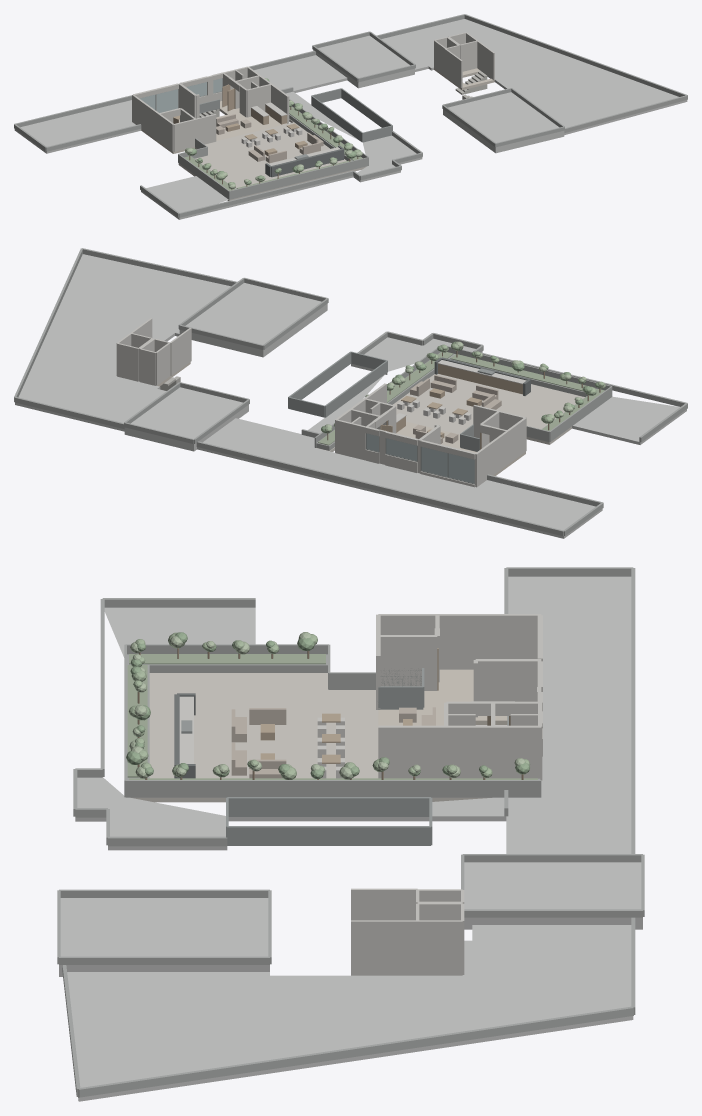
The model's file is terraza-tc.glb.
3 views of the same model, one above another, from view 1: azimuth 30°, elevation 25°; view 2: azimuth 150°, elevation 25°; view 3: azimuth 270°, elevation 25° (orthographic). The views are drawn at different scales.
Visible parts, largest first — view 1: 01_Cubiertas_inaccesibles__Losa_03_003, 01_Cubiertas_inaccesibles__Losa_01_001, 01_Cubiertas_inaccesibles__Losa_02_002, 01_Cubiertas_inaccesibles__Volumen_cubierto_023, 02_Terraza_comunal__Losa terraza_001, 01_Cubiertas_inaccesibles__Volumen_cubierto_018, 05_Vacios_y_protecciones__Pretil terraza_008, 01_Cubiertas_inaccesibles__Pretil_016, 03_Hall_y_bar__Muro_003, 03_Hall_y_bar__Muro_006, 01_Cubiertas_inaccesibles__Pretil_004, 01_Cubiertas_inaccesibles__Pretil_009 (+18 smaller); view 2: 01_Cubiertas_inaccesibles__Losa_03_003, 01_Cubiertas_inaccesibles__Losa_01_001, 01_Cubiertas_inaccesibles__Volumen_cubierto_023, 01_Cubiertas_inaccesibles__Losa_02_002, 02_Terraza_comunal__Losa terraza_001, 01_Cubiertas_inaccesibles__Volumen_cubierto_018, 01_Cubiertas_inaccesibles__Pretil_004, 03_Hall_y_bar__Muro_003, 03_Hall_y_bar__Vidrio_022, 03_Hall_y_bar__Muro_011, 01_Cubiertas_inaccesibles__Pretil_017, 06_Jardineras__Sustrato_006 (+21 smaller); view 3: 01_Cubiertas_inaccesibles__Losa_03_003, 01_Cubiertas_inaccesibles__Losa_01_001, 02_Terraza_comunal__Losa terraza_001, 01_Cubiertas_inaccesibles__Volumen_cubierto_023, 01_Cubiertas_inaccesibles__Losa_02_002, 01_Cubiertas_inaccesibles__Volumen_cubierto_018, 03_Hall_y_bar__Muro_010, 05_Vacios_y_protecciones__Pretil terraza_009, 04_Circulacion_vertical__Muro_026, 03_Hall_y_bar__Muro_003, 01_Cubiertas_inaccesibles__Pretil_016, 05_Vacios_y_protecciones__Borde de vacio_002 (+22 smaller).
Boxes of the visible parts, box(x1,y1,x2,y2) form: 01_Cubiertas_inaccesibles__Losa_03_003: box(381, 19, 687, 134); 01_Cubiertas_inaccesibles__Losa_01_001: box(14, 55, 347, 153); 01_Cubiertas_inaccesibles__Losa_02_002: box(141, 91, 422, 219); 01_Cubiertas_inaccesibles__Volumen_cubierto_023: box(443, 92, 564, 153); 02_Terraza_comunal__Losa terraza_001: box(178, 119, 366, 200); 01_Cubiertas_inaccesibles__Volumen_cubierto_018: box(313, 35, 414, 88); 05_Vacios_y_protecciones__Pretil terraza_008: box(229, 157, 368, 199); 01_Cubiertas_inaccesibles__Pretil_016: box(464, 14, 687, 96); 03_Hall_y_bar__Muro_003: box(132, 94, 174, 151); 03_Hall_y_bar__Muro_006: box(173, 114, 216, 151); 01_Cubiertas_inaccesibles__Pretil_004: box(14, 50, 315, 127); 01_Cubiertas_inaccesibles__Pretil_009: box(179, 170, 353, 217); 01_Cubiertas_inaccesibles__Losa_03_003: box(15, 254, 230, 431); 01_Cubiertas_inaccesibles__Losa_01_001: box(197, 418, 602, 538); 01_Cubiertas_inaccesibles__Volumen_cubierto_023: box(179, 283, 327, 357); 01_Cubiertas_inaccesibles__Losa_02_002: box(308, 337, 686, 444); 02_Terraza_comunal__Losa terraza_001: box(316, 374, 584, 451); 01_Cubiertas_inaccesibles__Volumen_cubierto_018: box(124, 387, 248, 451); 01_Cubiertas_inaccesibles__Pretil_004: box(196, 441, 563, 536); 03_Hall_y_bar__Muro_003: box(474, 417, 526, 487); 03_Hall_y_bar__Vidrio_022: box(421, 447, 474, 483); 03_Hall_y_bar__Muro_011: box(335, 419, 366, 460); 01_Cubiertas_inaccesibles__Pretil_017: box(82, 248, 237, 286); 06_Jardineras__Sustrato_006: box(450, 354, 595, 391); 01_Cubiertas_inaccesibles__Losa_03_003: box(67, 925, 633, 1101); 01_Cubiertas_inaccesibles__Losa_01_001: box(506, 576, 631, 853); 02_Terraza_comunal__Losa terraza_001: box(131, 673, 491, 802); 01_Cubiertas_inaccesibles__Volumen_cubierto_023: box(59, 898, 269, 976); 01_Cubiertas_inaccesibles__Losa_02_002: box(75, 607, 506, 850); 01_Cubiertas_inaccesibles__Volumen_cubierto_018: box(464, 862, 642, 929); 03_Hall_y_bar__Muro_010: box(378, 725, 541, 779); 05_Vacios_y_protecciones__Pretil terraza_009: box(125, 780, 541, 797); 04_Circulacion_vertical__Muro_026: box(351, 920, 462, 975); 03_Hall_y_bar__Muro_003: box(378, 614, 541, 669); 01_Cubiertas_inaccesibles__Pretil_016: box(78, 1006, 633, 1097); 05_Vacios_y_protecciones__Borde de vacio_002: box(227, 826, 430, 845).
Size of the model in its own units: 57.09 by 5.45 by 27.12.
